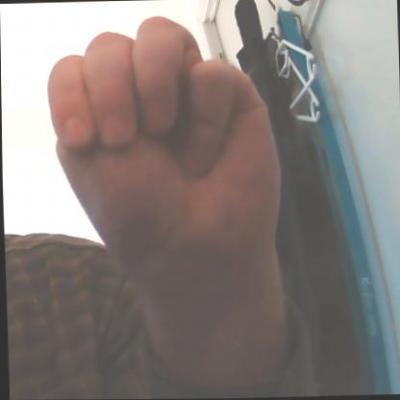hand: (44, 12, 281, 282)
